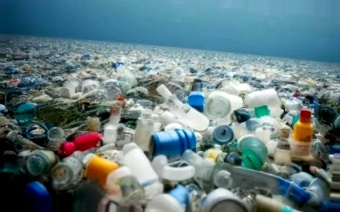plastic: (143, 126, 211, 176)
